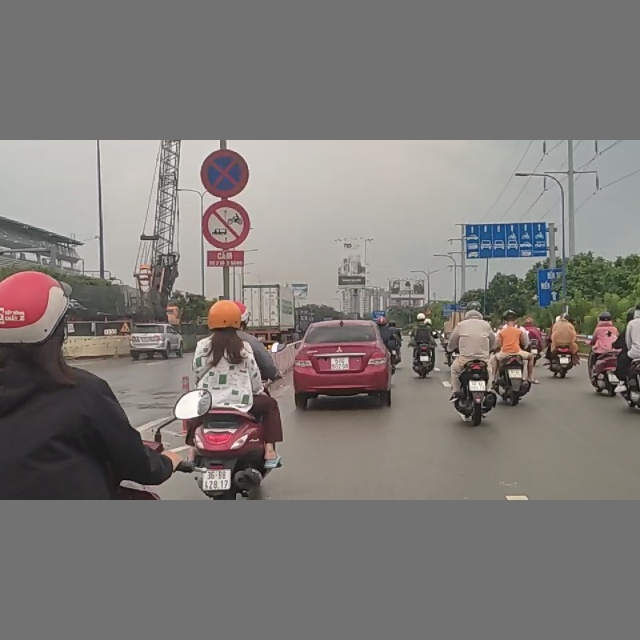P.111: (202, 200, 249, 248)
P.130: (201, 150, 248, 197)
